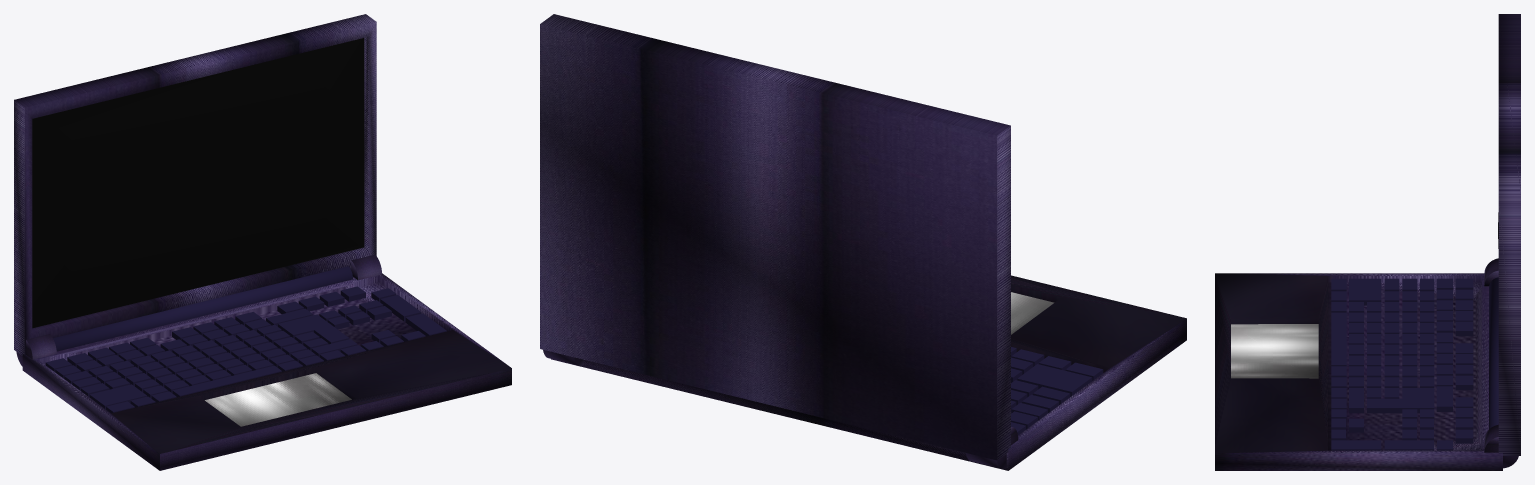
File: Bedroom_notebook.glb
3 renders of one model, left to right at view 1: azimuth 30°, elevation 25°; view 2: azimuth 150°, elevation 25°; view 3: azimuth 270°, elevation 25°, orthographic. The views are drawn at different scales.
Parts seen in each view (by area): view 1: Plane, Cube, Plane.003, Cylinder, Cylinder.001; view 2: Plane, Cube, Plane.003, Cylinder.001; view 3: Cube, Plane.003, Plane, Cylinder, Cylinder.001.
Part boxes in pixels (left/top/right/bottom): Plane: left=14, top=14, right=376, bottom=355; Cube: left=22, top=273, right=511, bottom=470; Plane.003: left=45, top=286, right=446, bottom=413; Cylinder: left=53, top=266, right=352, bottom=351; Cylinder.001: left=16, top=254, right=381, bottom=366; Plane: left=540, top=14, right=1010, bottom=460; Cube: left=551, top=275, right=1186, bottom=470; Plane.003: left=1011, top=347, right=1103, bottom=435; Cylinder.001: left=543, top=350, right=1018, bottom=469; Cube: left=1215, top=273, right=1502, bottom=470; Plane.003: left=1331, top=278, right=1473, bottom=450; Plane: left=1498, top=14, right=1520, bottom=455; Cylinder: left=1489, top=277, right=1498, bottom=428; Cylinder.001: left=1484, top=258, right=1518, bottom=468.
Size of the model in its own units: 1.24 by 0.8907 by 0.8916.
4 materials, 2 textured.
